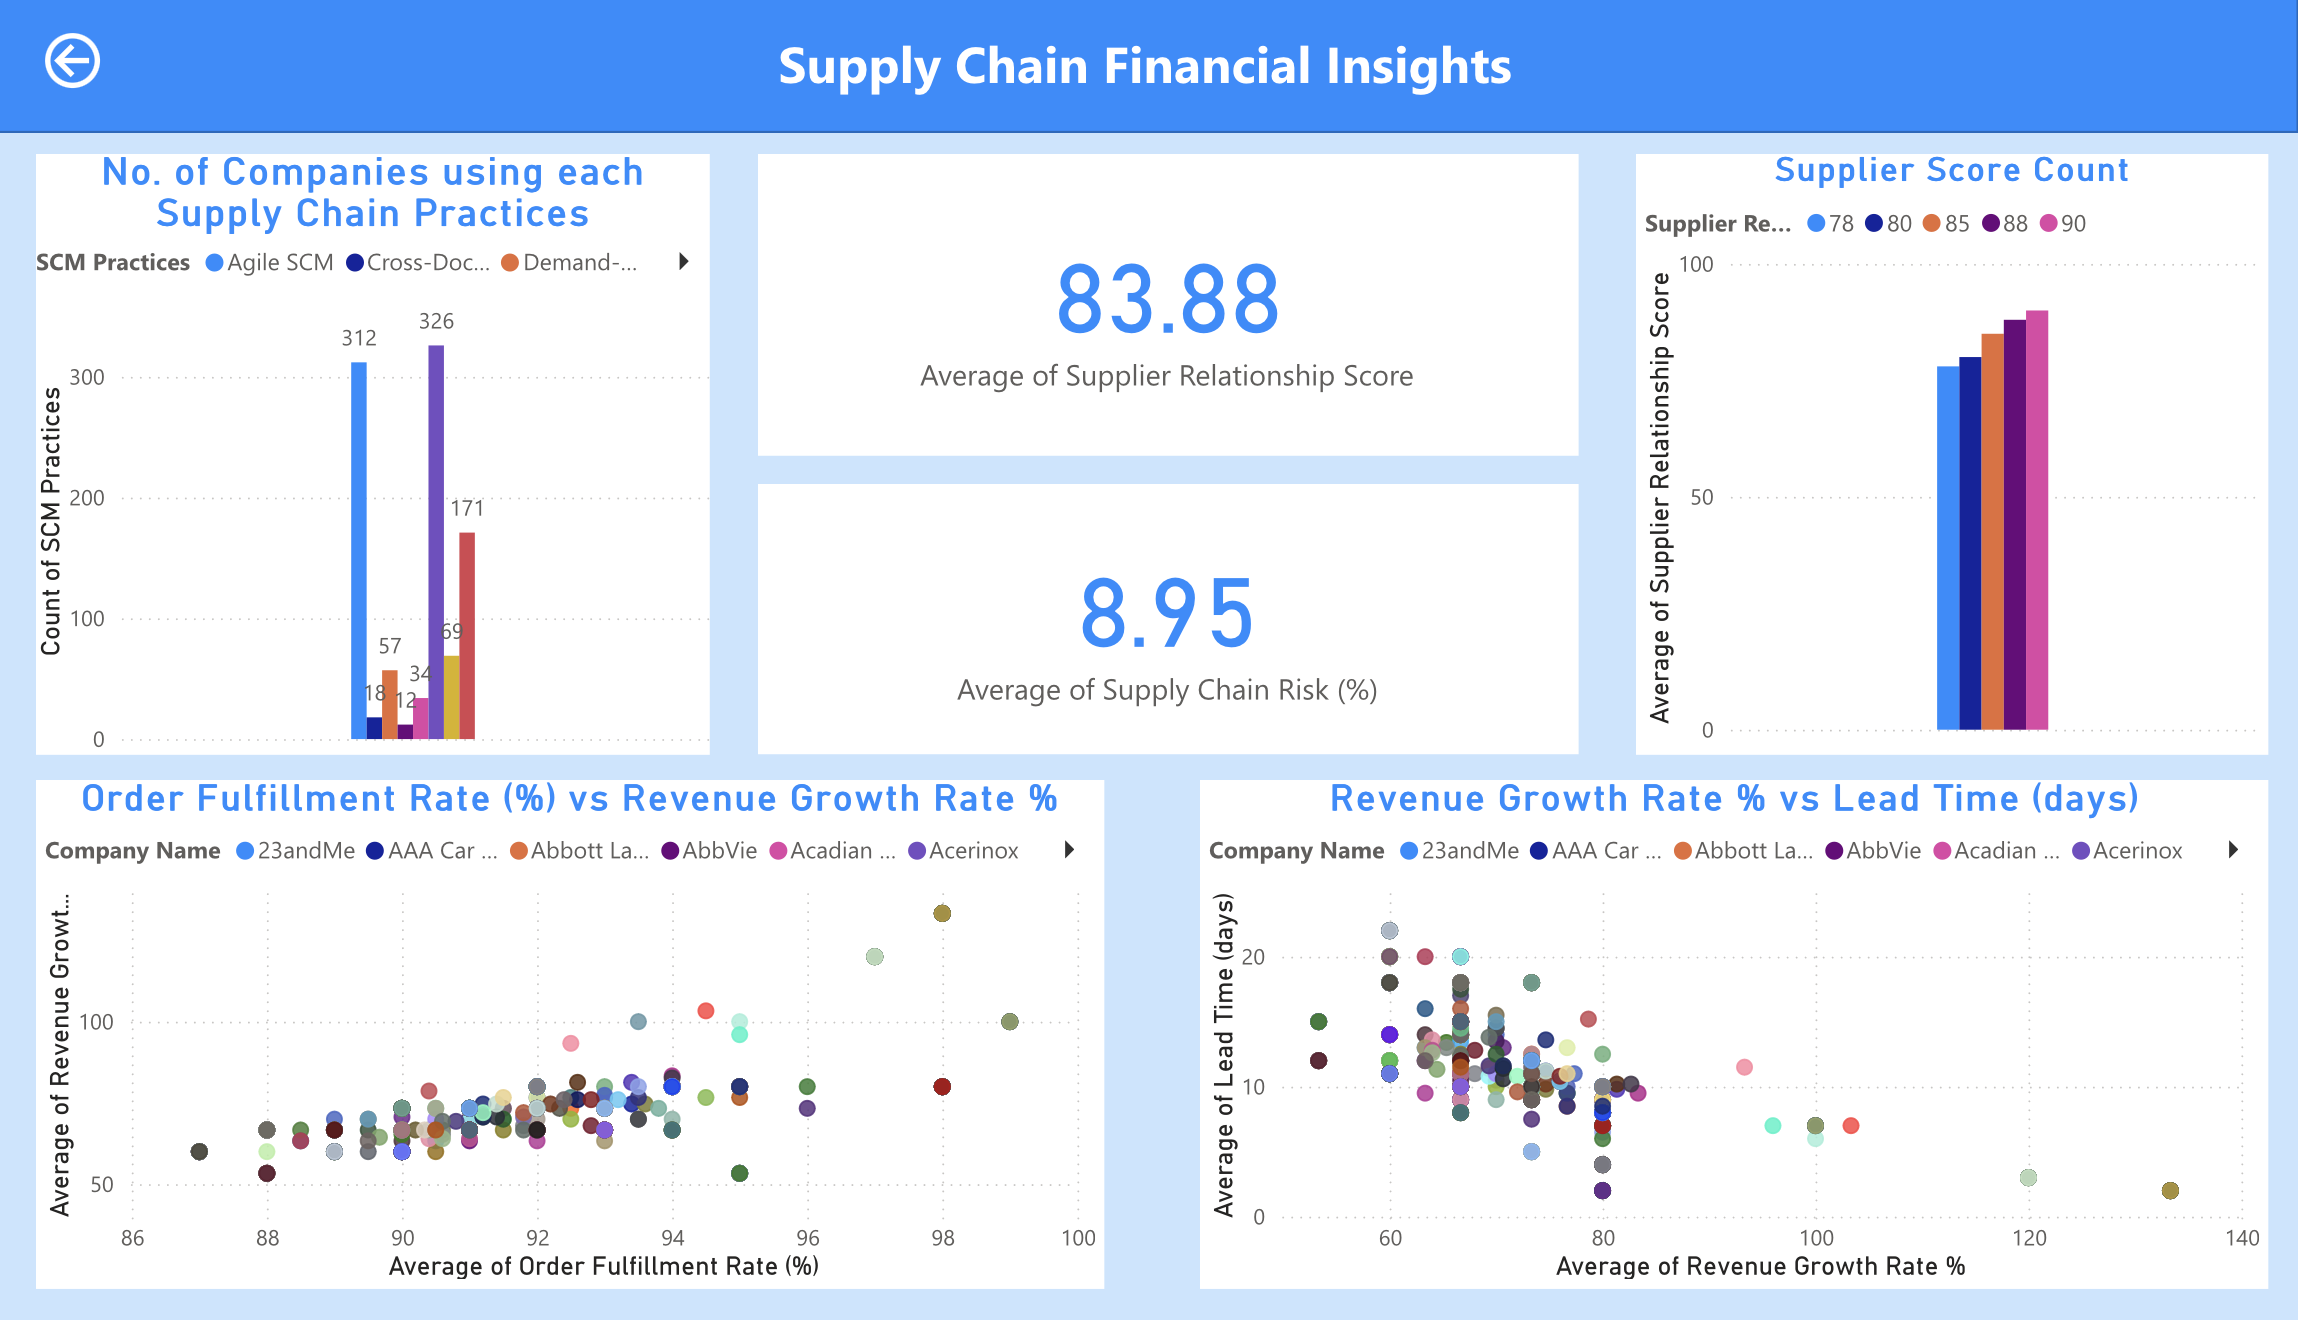

The dashboard page shown, as its layout file describes it:
{"tool":"powerbi","page":{"name":"Supply Chain Insights","canvas":[1280,720],"ordinal":1},"visuals":[{"type":"shape","box":[0,0,1280.2,78.1],"z":0},{"type":"clusteredColumnChart","title":"No. of Companies using each Supply Chain Practices","fields":{"Y":["CountNonNull(Sheet1.SCM Practices)"],"Series":["Sheet1.SCM Practices"]},"box":[24,90,374.2,333.6],"z":1},{"type":"scatterChart","title":"Order Fulfillment Rate (%) vs Revenue Growth Rate % ","fields":{"X":["Avg(Sheet1.Order Fulfillment Rate (%))"],"Y":["Avg(Sheet1.Revenue Growth Rate %)"],"Series":["Sheet1.Company Name"]},"box":[24.7,437.7,593.1,282.4],"z":2},{"type":"scatterChart","title":"Revenue Growth Rate % vs Lead Time (days)","fields":{"X":["Avg(Sheet1.Revenue Growth Rate %)"],"Y":["Avg(Sheet1.Lead Time (days))"],"Series":["Sheet1.Company Name"]},"box":[670.7,437.7,593.1,282.4],"z":3},{"type":"card","fields":{"Values":["Avg(Sheet1.Supply Chain Risk (%))"]},"box":[425.4,273.6,455.4,150],"z":4},{"type":"card","fields":{"Values":["Avg(Sheet1.Supplier Relationship Score)"]},"box":[425.4,90,455.4,167.7],"z":5},{"type":"clusteredColumnChart","title":"Supplier Score Count","fields":{"Y":["Avg(Sheet1.Supplier Relationship Score)"],"Series":["Sheet1.Supplier Relationship Score"]},"box":[912.5,90,351.2,333.6],"z":6},{"type":"actionButton","box":[24.7,17.7,49.4,40.6],"z":7}]}

Visuals, with their boxes in screenshot pixels (x1, y1, x2, y2), scaled from the page's 1280x720 canvas onto the 2298x1320 screenshot:
shape: left=0, top=0, right=2297, bottom=143
"No. of Companies using each Supply Chain Practices" clusteredColumnChart: left=43, top=165, right=715, bottom=777
"Order Fulfillment Rate (%) vs Revenue Growth Rate % " scatterChart: left=44, top=802, right=1109, bottom=1319
"Revenue Growth Rate % vs Lead Time (days)" scatterChart: left=1204, top=802, right=2269, bottom=1319
card - Avg(Sheet1.Supply Chain Risk (%)): left=764, top=502, right=1581, bottom=777
card - Avg(Sheet1.Supplier Relationship Score): left=764, top=165, right=1581, bottom=472
"Supplier Score Count" clusteredColumnChart: left=1638, top=165, right=2269, bottom=777
actionButton: left=44, top=32, right=133, bottom=107
